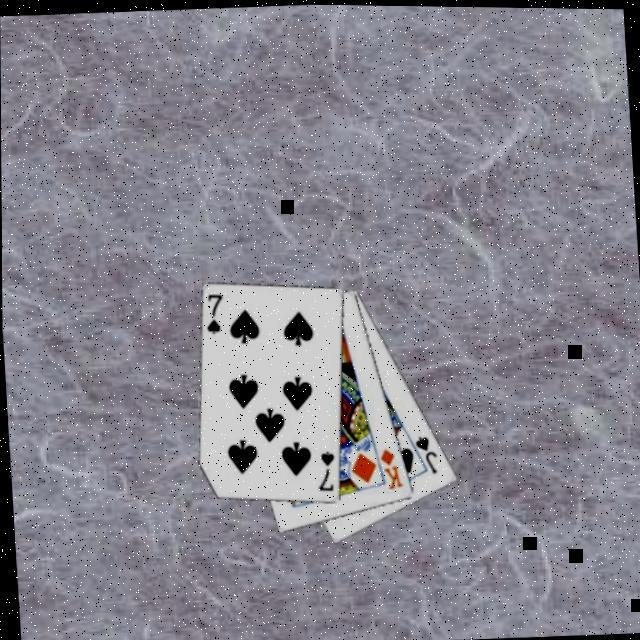7S: (312, 446, 337, 493), (201, 289, 226, 336)
JS: (410, 430, 440, 475)
KD: (376, 443, 404, 490)
